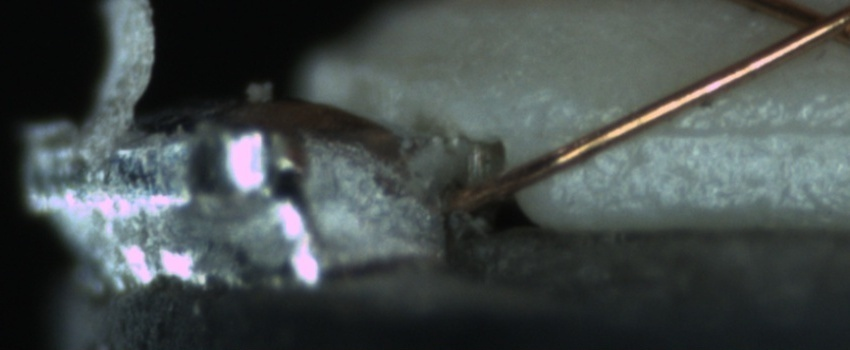CL: (774, 2, 849, 54)
DL: (616, 91, 846, 165)
